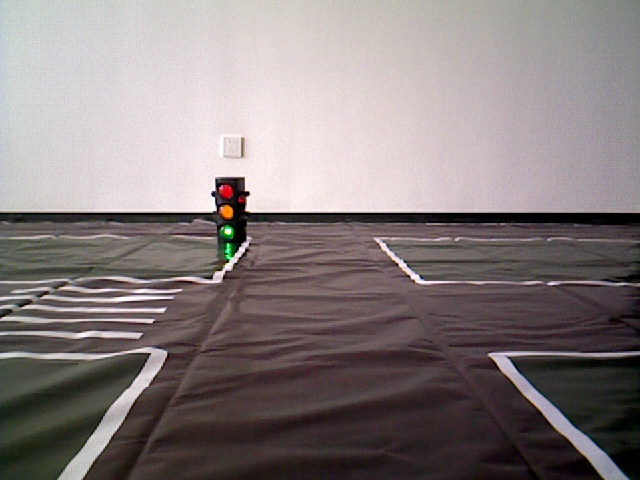green: (218, 180, 241, 238)
